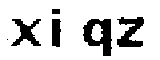i: (47, 4, 69, 54)
q: (79, 16, 115, 59)
x: (8, 17, 42, 51)
z: (116, 13, 147, 51)
